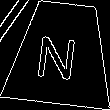N_N: (38, 26, 85, 81)
